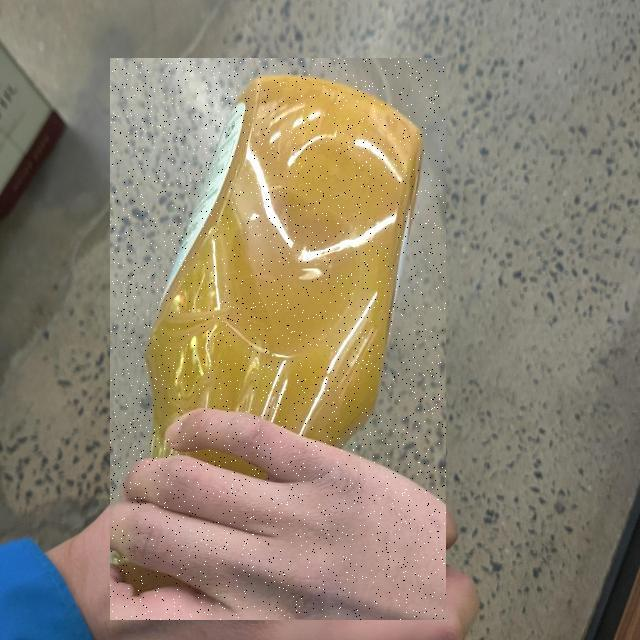Juice: (110, 58, 446, 620)
